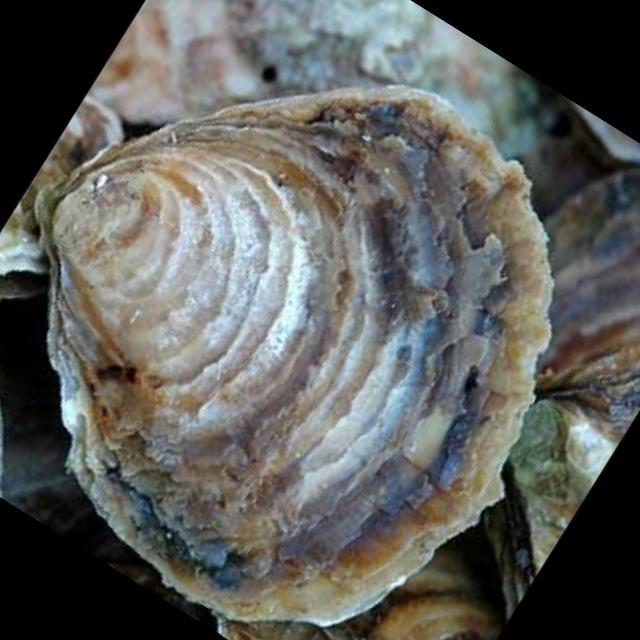Oyster- Indeterminate: (39, 88, 552, 624), (538, 169, 640, 431), (0, 98, 124, 301), (0, 420, 80, 517), (369, 595, 501, 640), (398, 542, 485, 597), (320, 600, 392, 640), (219, 619, 330, 640)
Oyster-Closed: (482, 400, 616, 616)
